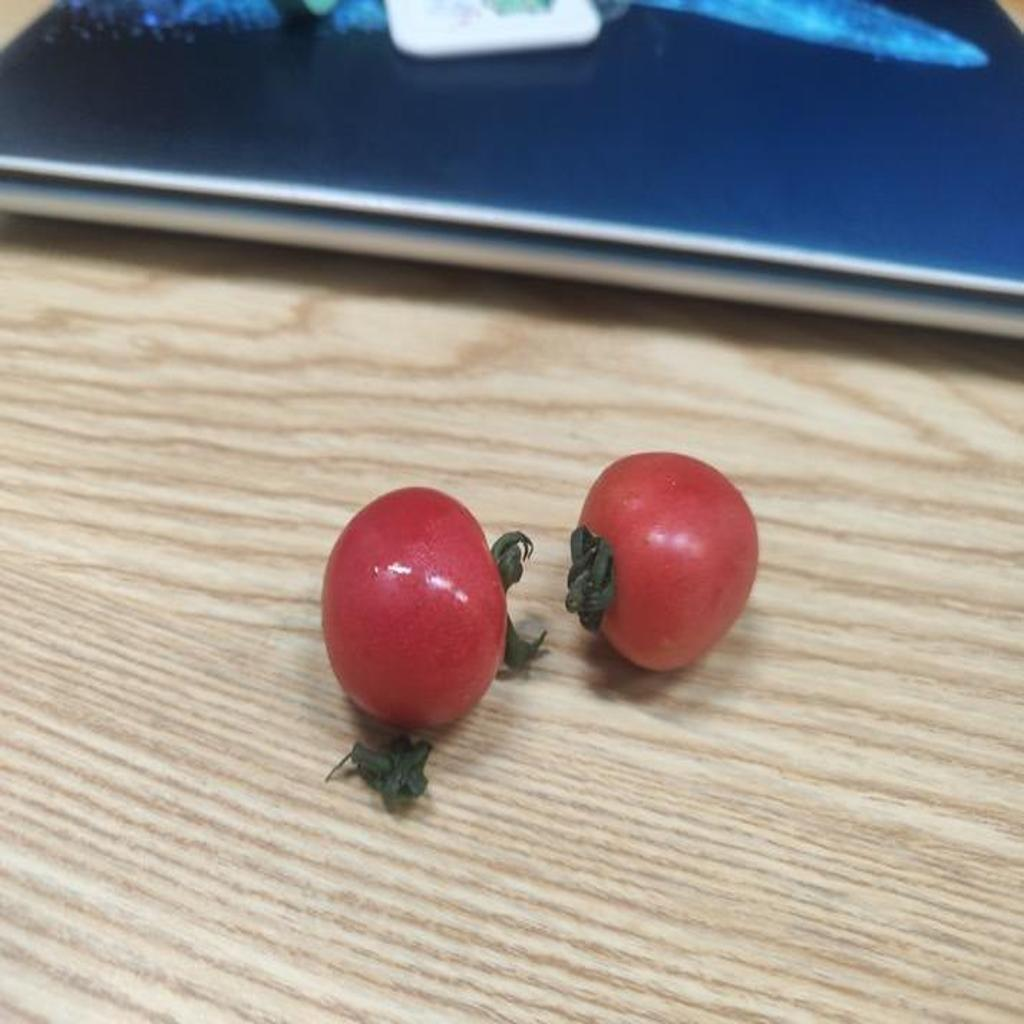tomato: (325, 484, 509, 750), (583, 449, 765, 680)
